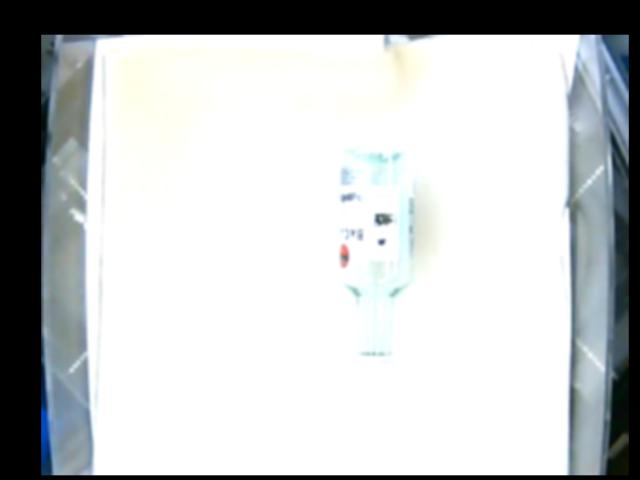Bottle: (338, 146, 413, 382)
